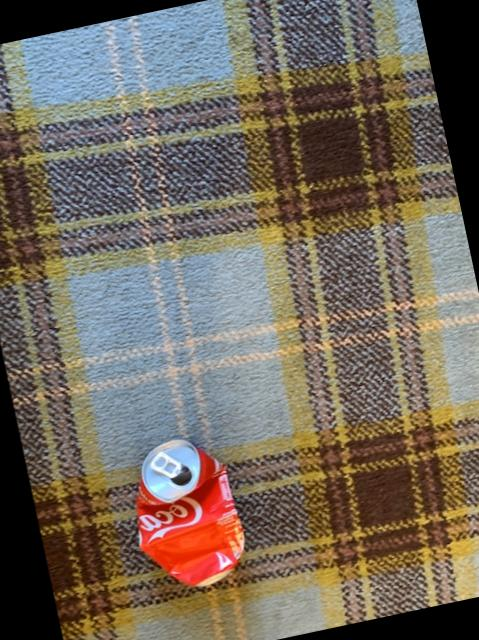metal: (136, 438, 244, 584)
